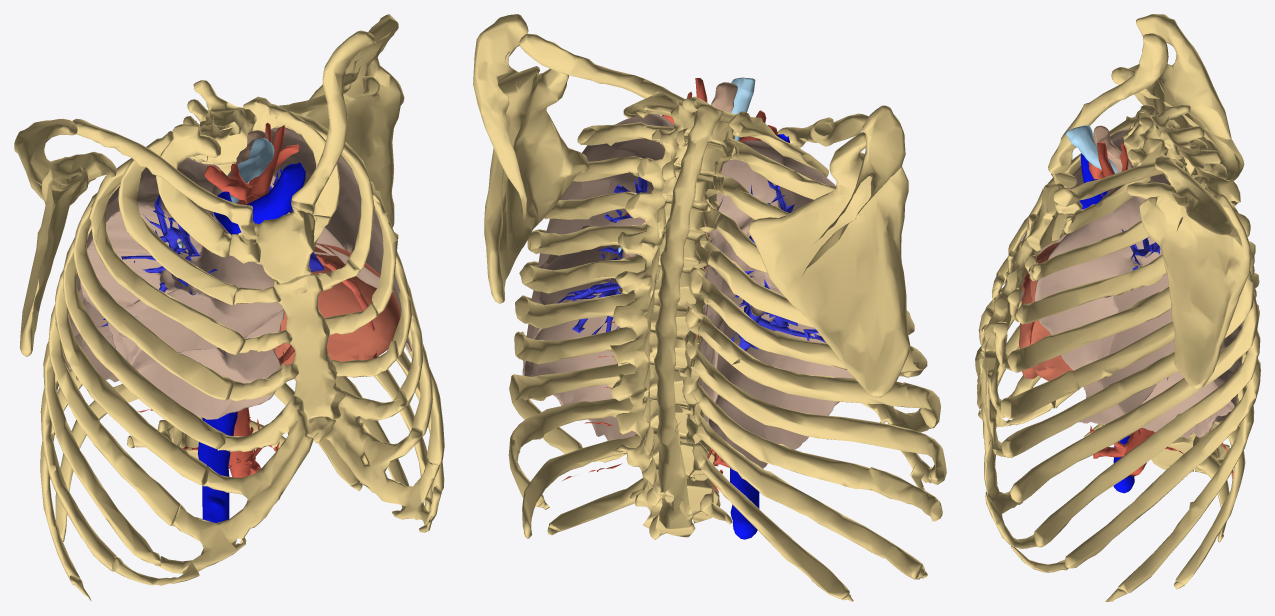
The model's file is thorax.glb.
3 views of the same model, side by side, from view 1: azimuth 30°, elevation 25°; view 2: azimuth 150°, elevation 25°; view 3: azimuth 270°, elevation 25° (orthographic). The views are drawn at different scales.
Parts seen in each view (by area): view 1: ribs, shoulder_girdle, right_lung, sternum, heart, left_lung, vena_cava, thoracic_spine, thoracic_aorta, pulmonary_vessels, airway, coronary_arteries; view 2: ribs, shoulder_girdle, thoracic_spine, right_lung, left_lung, pulmonary_vessels, vena_cava, thoracic_aorta, airway; view 3: ribs, shoulder_girdle, left_lung, thoracic_spine, sternum, heart, thoracic_aorta, airway, vena_cava, esophagus, right_lung.
Part boxes in pixels (x1,y1,x2,y2): ribs: (40, 96, 444, 601); shoulder_girdle: (14, 14, 404, 356); right_lung: (63, 157, 284, 419); sternum: (254, 208, 345, 443); heart: (273, 243, 400, 376); left_lung: (247, 127, 411, 351); vena_cava: (198, 162, 305, 522); thoracic_spine: (157, 80, 256, 459); thoracic_aorta: (137, 122, 299, 477); pulmonary_vessels: (101, 168, 323, 326); airway: (177, 138, 274, 252); coronary_arteries: (278, 254, 374, 364); ribs: (508, 91, 946, 601); shoulder_girdle: (473, 14, 910, 397); thoracic_spine: (610, 96, 740, 539); right_lung: (700, 140, 853, 468); left_lung: (522, 113, 673, 440); pulmonary_vessels: (557, 157, 825, 351); vena_cava: (730, 134, 789, 539); thoracic_aorta: (561, 78, 777, 515); airway: (618, 77, 755, 252); ribs: (975, 105, 1260, 601); shoulder_girdle: (1048, 14, 1251, 389); left_lung: (1034, 173, 1242, 438); thoracic_spine: (1124, 104, 1256, 474); sternum: (980, 183, 1065, 377); heart: (1019, 242, 1073, 380); thoracic_aorta: (1088, 142, 1233, 478); airway: (1065, 125, 1118, 173); vena_cava: (1079, 153, 1134, 493); esophagus: (1093, 125, 1133, 172); right_lung: (1001, 129, 1128, 301).
Bounding box in the file's own units: 0.3158 × 0.3711 × 0.2164.
